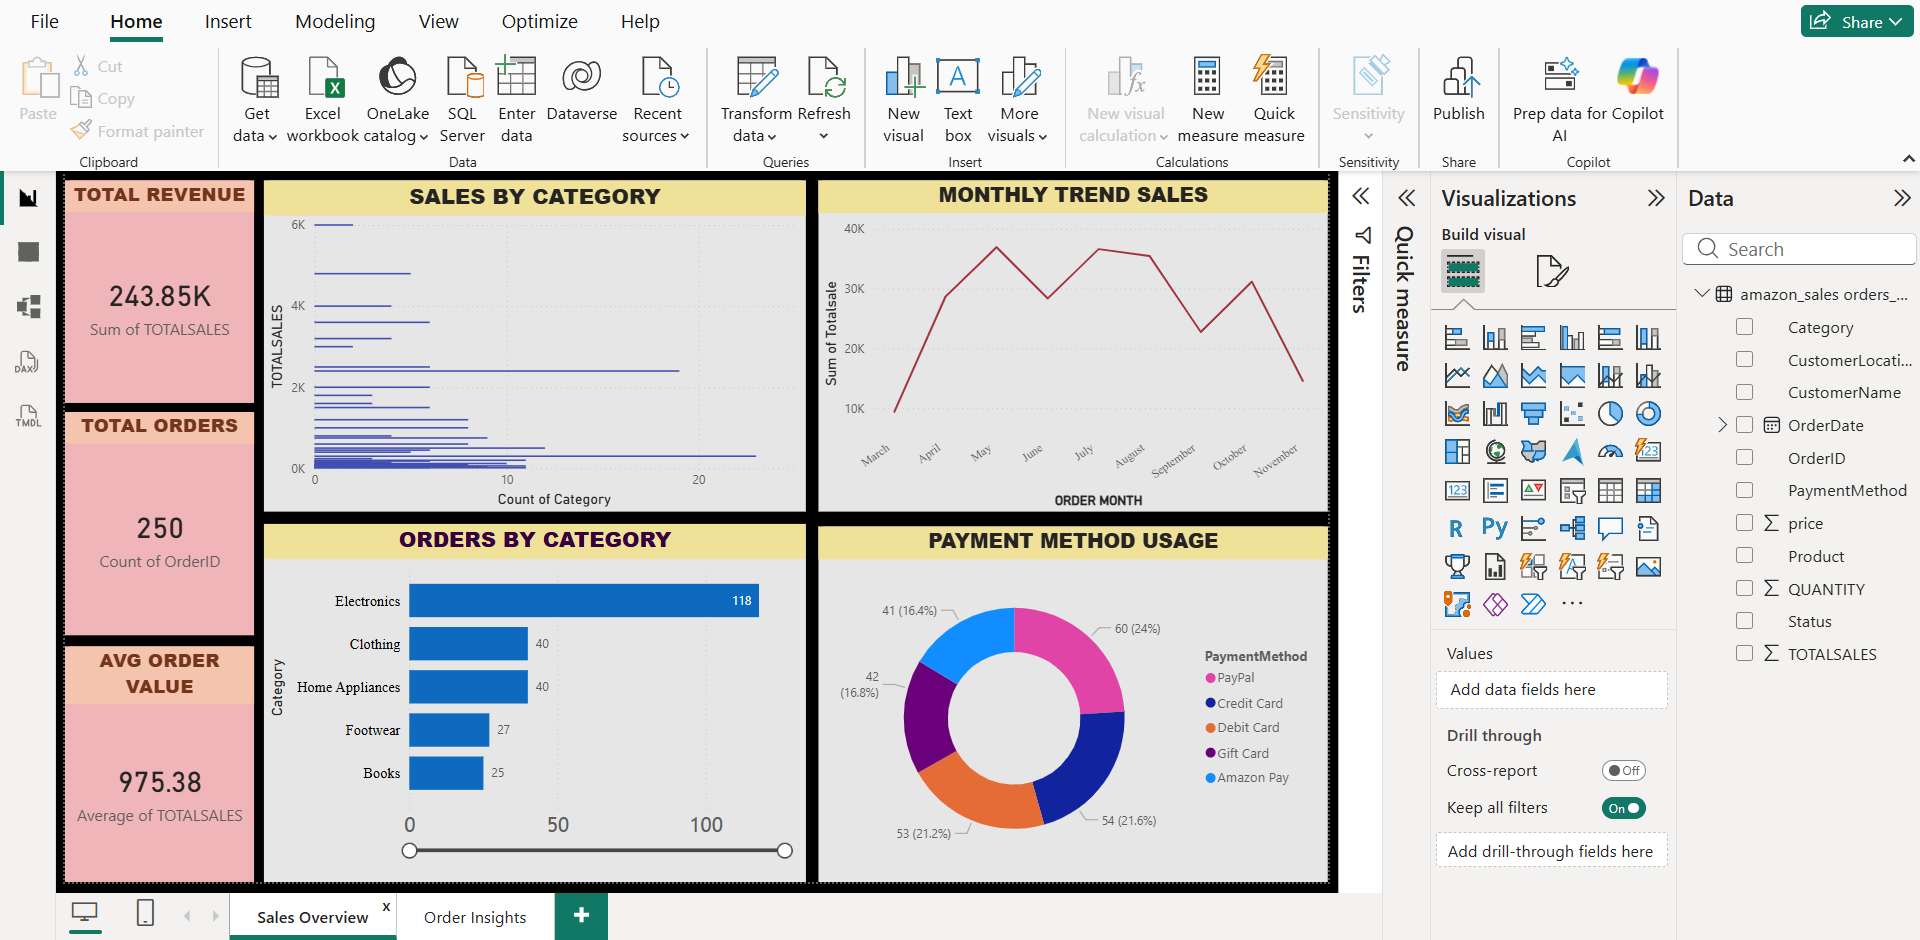

The page's visual inventory and layout, read from the dashboard file:
{"tool":"powerbi","page":{"name":"Sales Overview","canvas":[1280,720],"ordinal":0},"visuals":[{"type":"card","title":"TOTAL REVENUE","fields":{"Values":["Sum(amazon_sales orders_dataset.TOTALSALES)"]},"box":[0,9.7,191.9,225],"z":0},{"type":"card","title":"TOTAL ORDERS","fields":{"Values":["CountNonNull(amazon_sales orders_dataset.OrderID)"]},"box":[0,244.3,191.9,226.4],"z":1},{"type":"card","title":"AVG ORDER VALUE","fields":{"Values":["Avg(amazon_sales orders_dataset.TOTALSALES)"]},"box":[0,481.7,191.9,238.8],"z":2},{"type":"clusteredBarChart","title":"ORDERS BY CATEGORY","fields":{"Category":["amazon_sales orders_dataset.Category"],"Y":["CountNonNull(amazon_sales orders_dataset.OrderID)"]},"box":[201.5,357.5,549.3,363],"z":3},{"type":"clusteredBarChart","title":"SALES BY CATEGORY","fields":{"Y":["CountNonNull(amazon_sales orders_dataset.Category)"],"Category":["amazon_sales orders_dataset.TOTALSALES"]},"box":[201.5,9.7,549.3,335.4],"z":4},{"type":"lineChart","title":"MONTHLY TREND SALES","fields":{"Category":["amazon_sales orders_dataset.OrderDate.Variation.Date Hierarchy.Month"],"Y":["Sum(amazon_sales orders_dataset.TOTALSALES)"]},"box":[763.3,9.7,516.2,335.4],"z":5},{"type":"donutChart","title":"PAYMENT METHOD USAGE","fields":{"Category":["amazon_sales orders_dataset.PaymentMethod"],"Y":["CountNonNull(amazon_sales orders_dataset.OrderID)"]},"box":[763.3,360.2,516.2,360.2],"z":6}]}

Visuals, with their boxes on the page's 1280x720 design canvas (x1, y1, x2, y2). These are canvas units, not pixel positions in the 1920x940 screenshot, which may show the page scaled, cropped or inside an application window:
"TOTAL REVENUE" card: detection(0, 10, 192, 235)
"TOTAL ORDERS" card: detection(0, 244, 192, 471)
"AVG ORDER VALUE" card: detection(0, 482, 192, 720)
"ORDERS BY CATEGORY" clusteredBarChart: detection(202, 358, 751, 720)
"SALES BY CATEGORY" clusteredBarChart: detection(202, 10, 751, 345)
"MONTHLY TREND SALES" lineChart: detection(763, 10, 1280, 345)
"PAYMENT METHOD USAGE" donutChart: detection(763, 360, 1280, 720)
